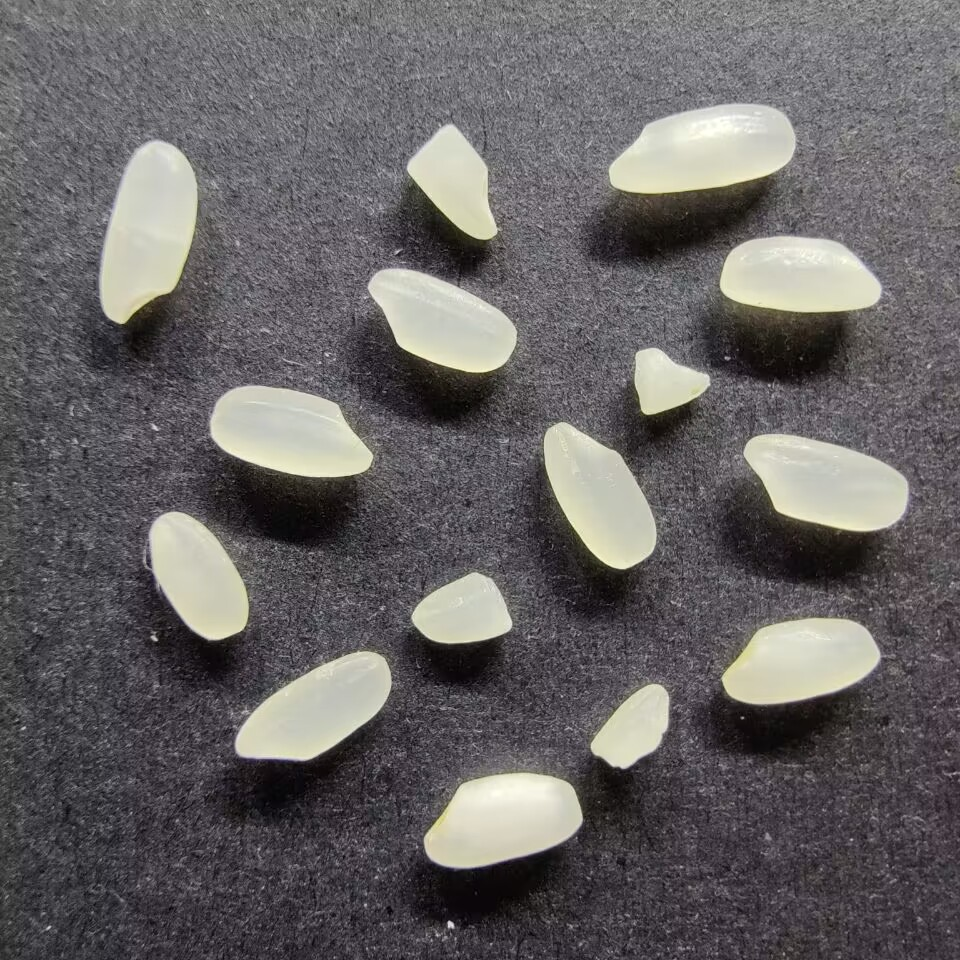broken: (404, 120, 499, 242), (409, 573, 514, 645), (588, 681, 672, 771), (632, 345, 712, 416)
rice: (96, 137, 200, 327), (231, 649, 392, 764), (540, 420, 660, 573), (607, 101, 798, 196), (741, 432, 910, 534), (205, 383, 377, 481), (366, 266, 519, 374), (422, 771, 584, 871), (721, 616, 882, 706), (146, 508, 250, 643), (718, 234, 883, 314)
